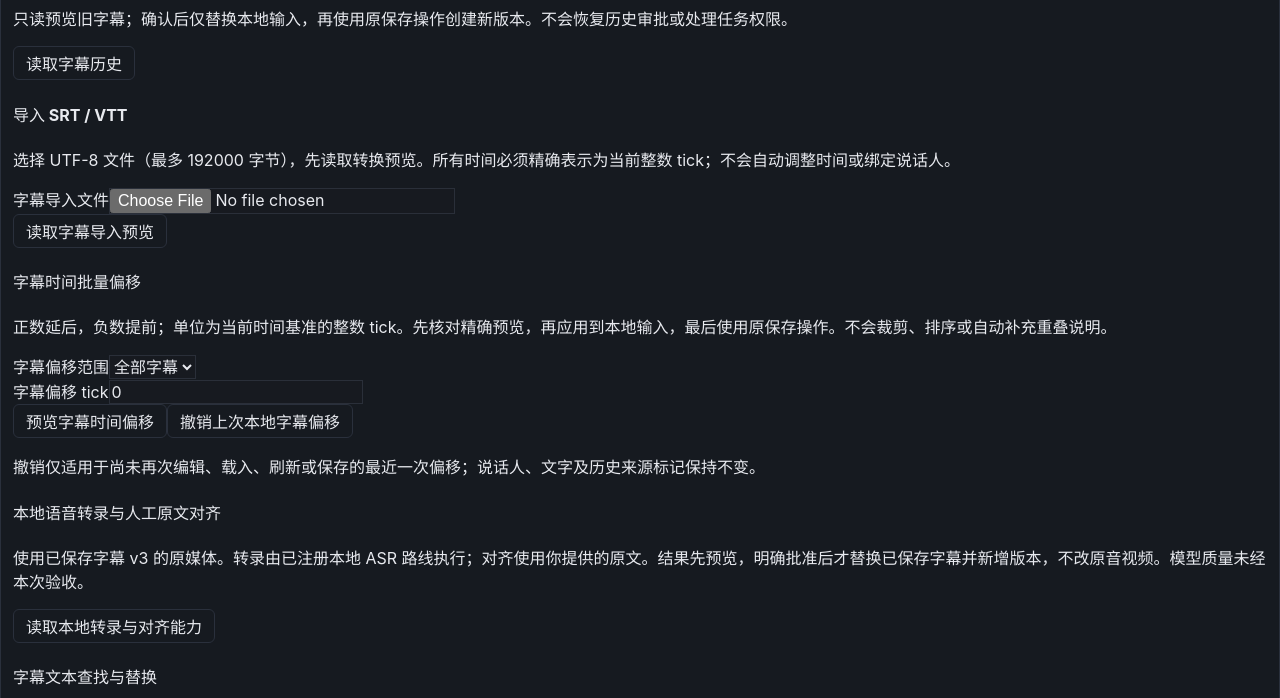
invalidates undo after reload without overwriting newer input
The width and height of the screenshot is (1280, 698).
(page scrolled)
Replace the text in the field labelled "字幕偏移 tick" with "10" at (236, 392), box left=108, top=380, right=362, bottom=404
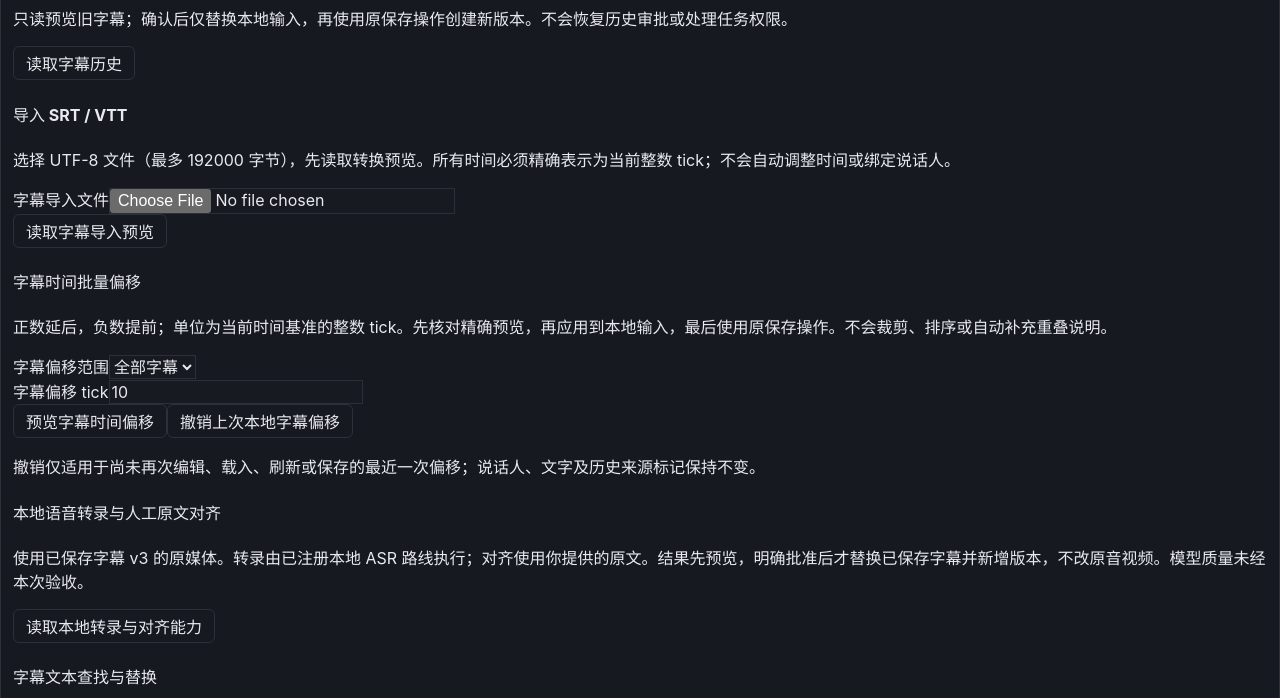
Click the button "预览字幕时间偏移" at (90, 421), box left=13, top=404, right=167, bottom=438
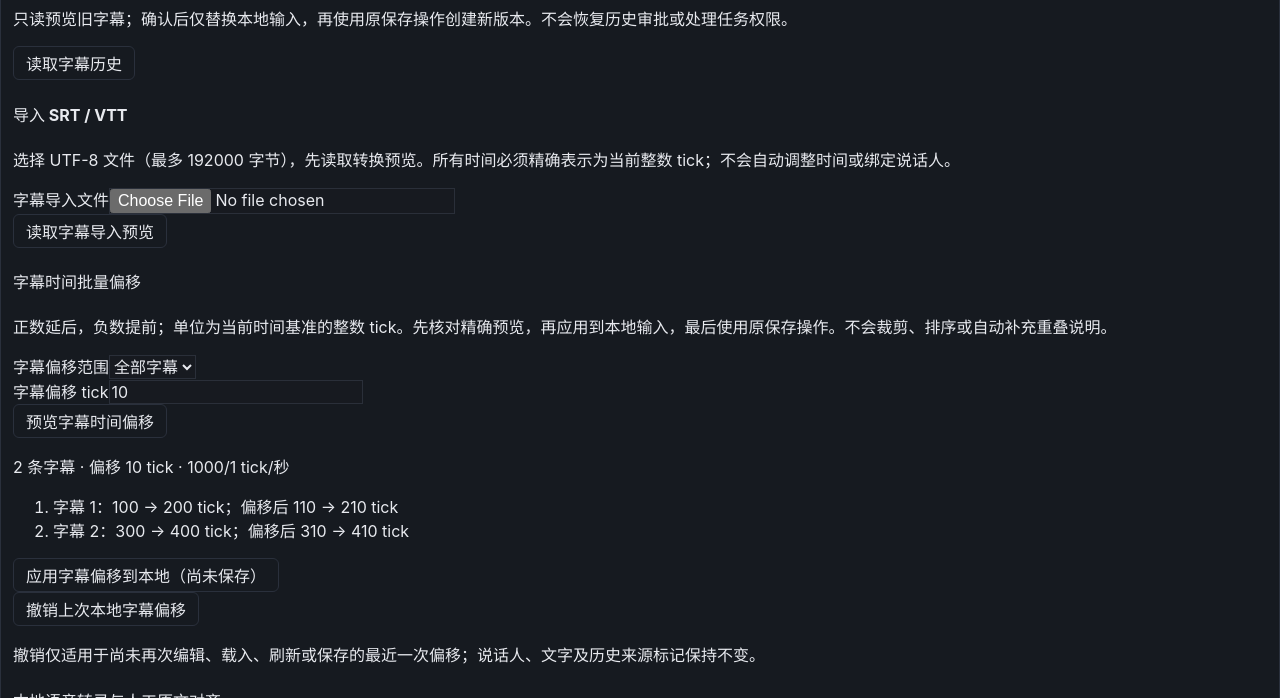
Click the button "应用字幕偏移到本地（尚未保存）" at (146, 575), box left=13, top=558, right=279, bottom=592
(page scrolled)
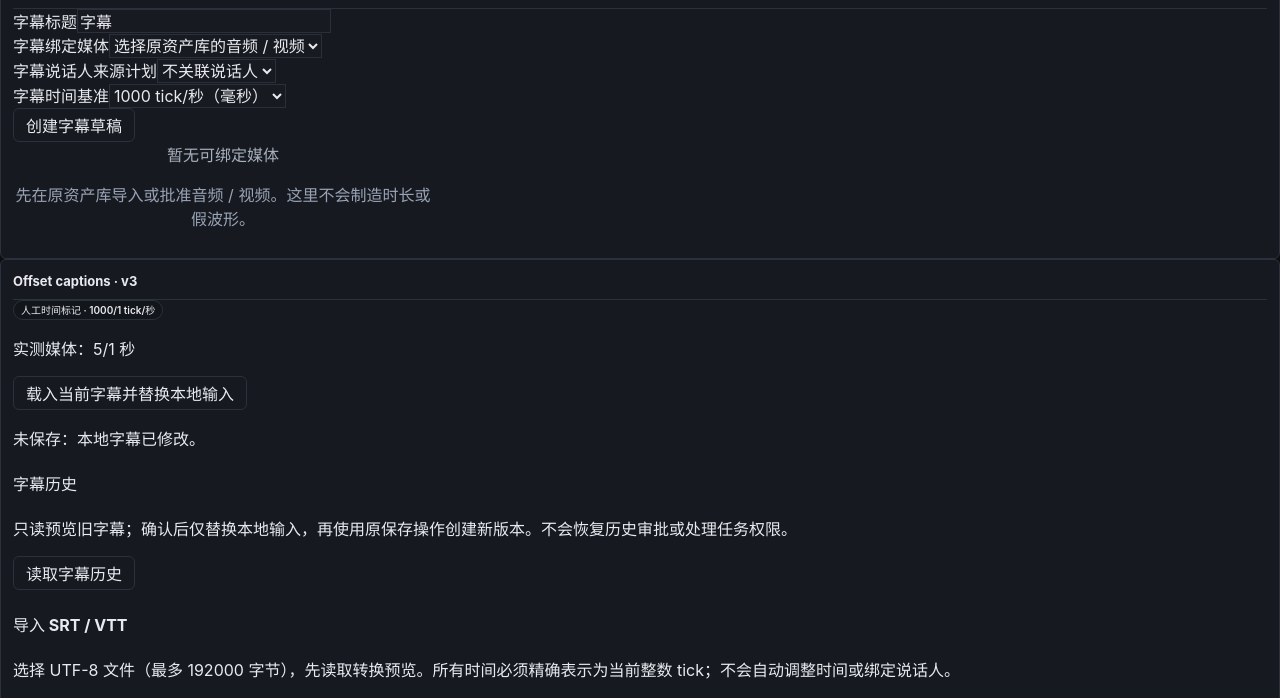
Click the button "载入当前字幕并替换本地输入" at (130, 393), box left=13, top=376, right=247, bottom=410
(page scrolled)
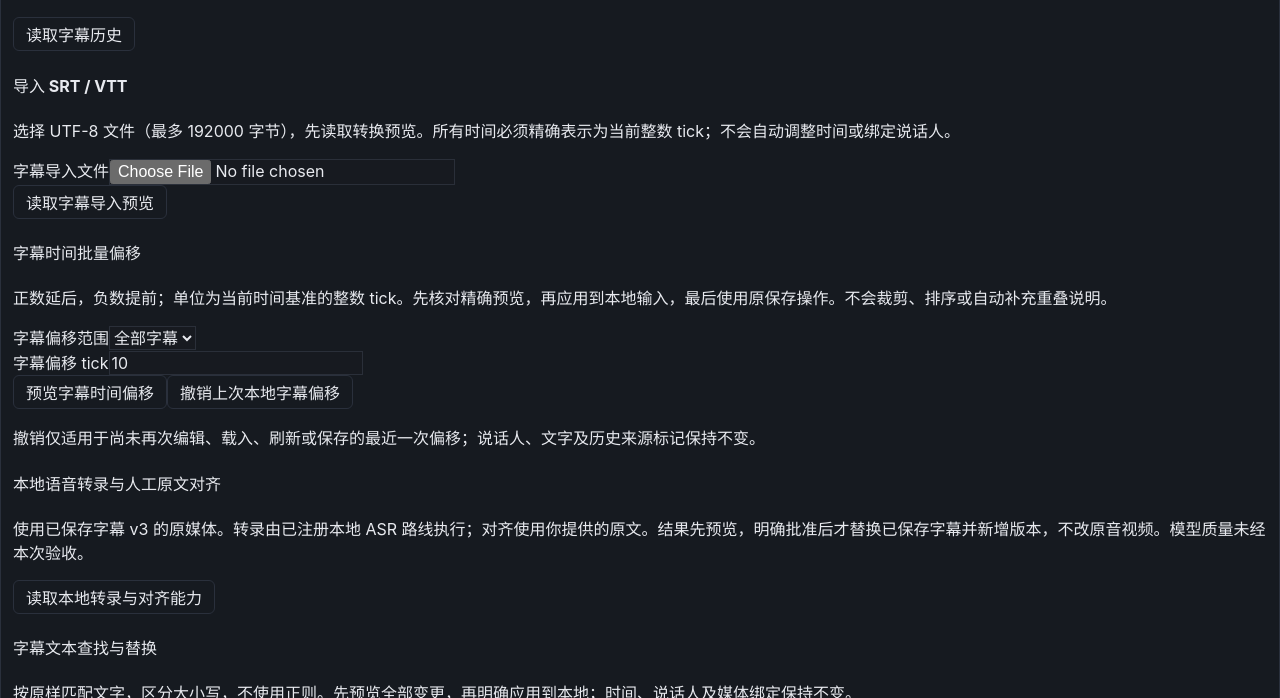
Check: the button "撤销上次本地字幕偏移" is disabled, box left=167, top=375, right=353, bottom=409
